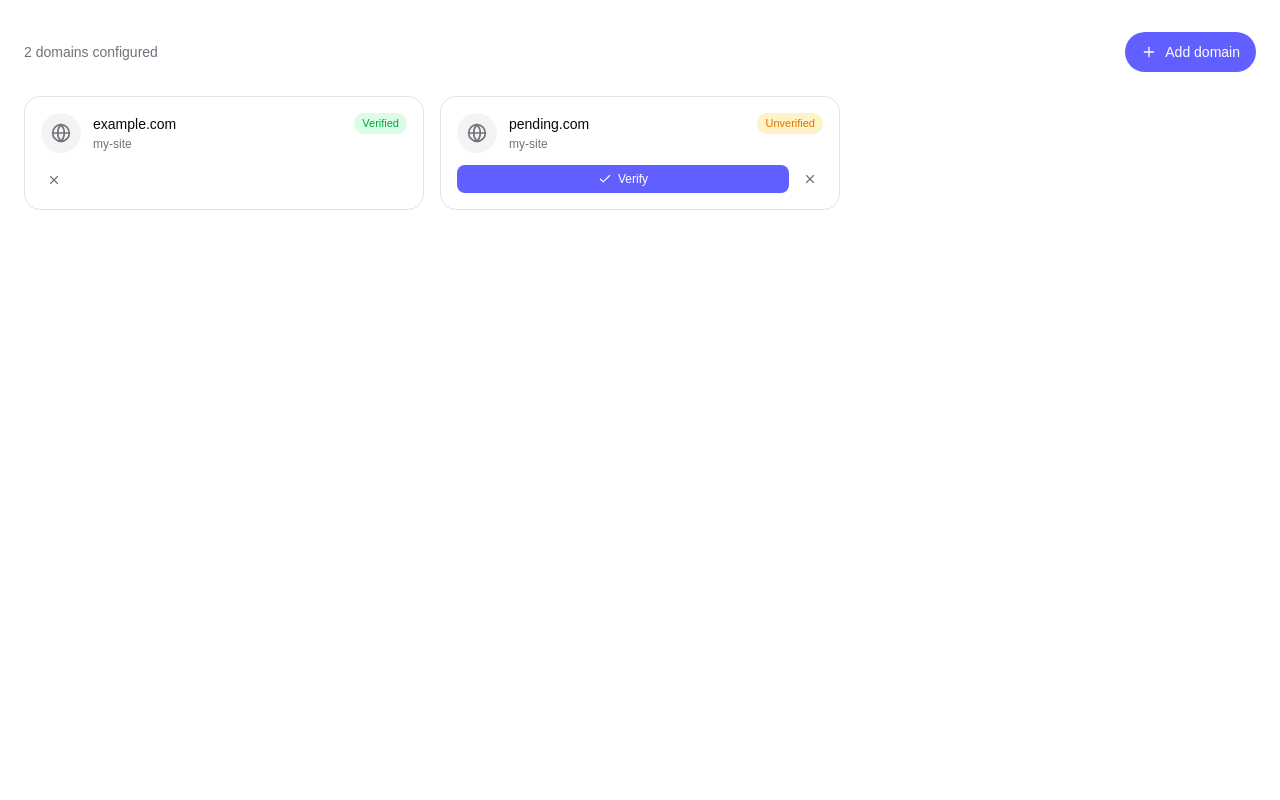
Test: DomainsSection › rejects an invalid domain format
Click the button "Add domain" at [1191, 52], box top-left (1125, 32), bottom-right (1256, 72)
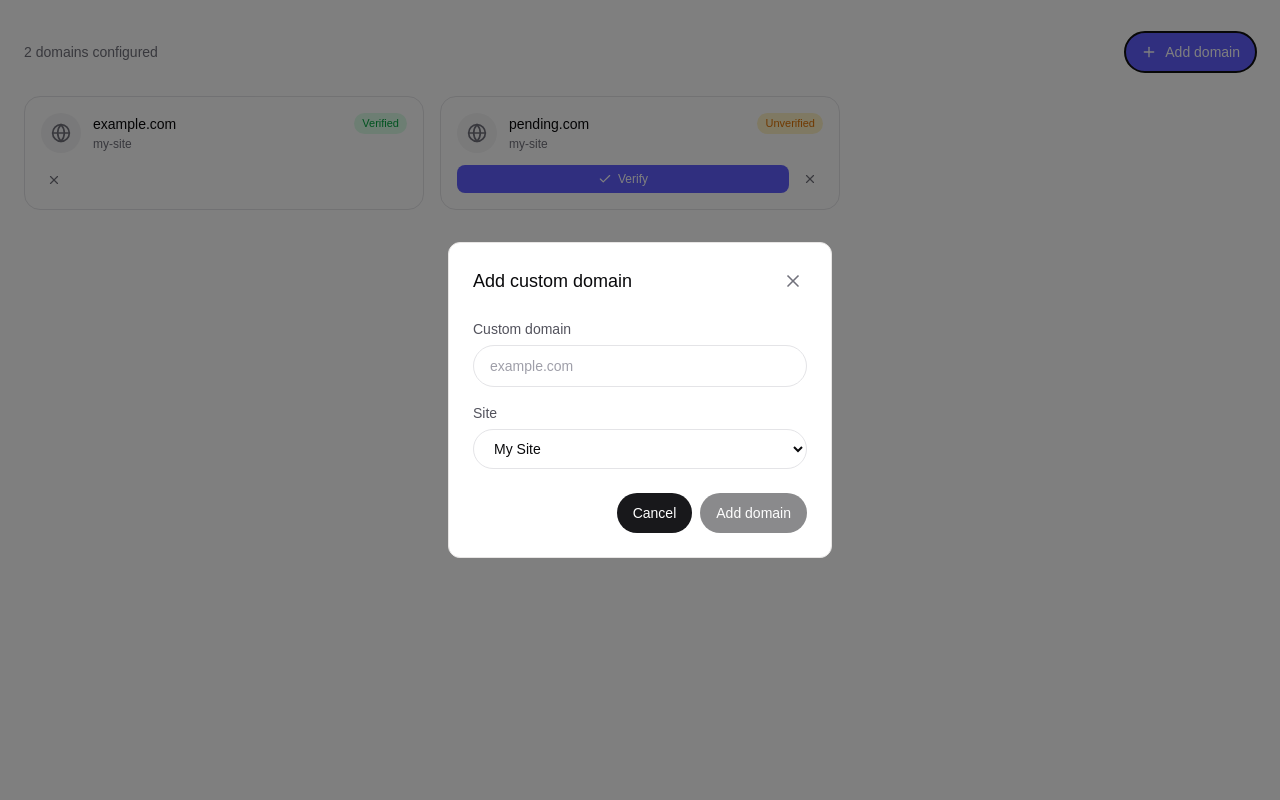
Type "not a domain" into the field labelled "Custom domain" at [640, 366], box top-left (473, 345), bottom-right (807, 387)
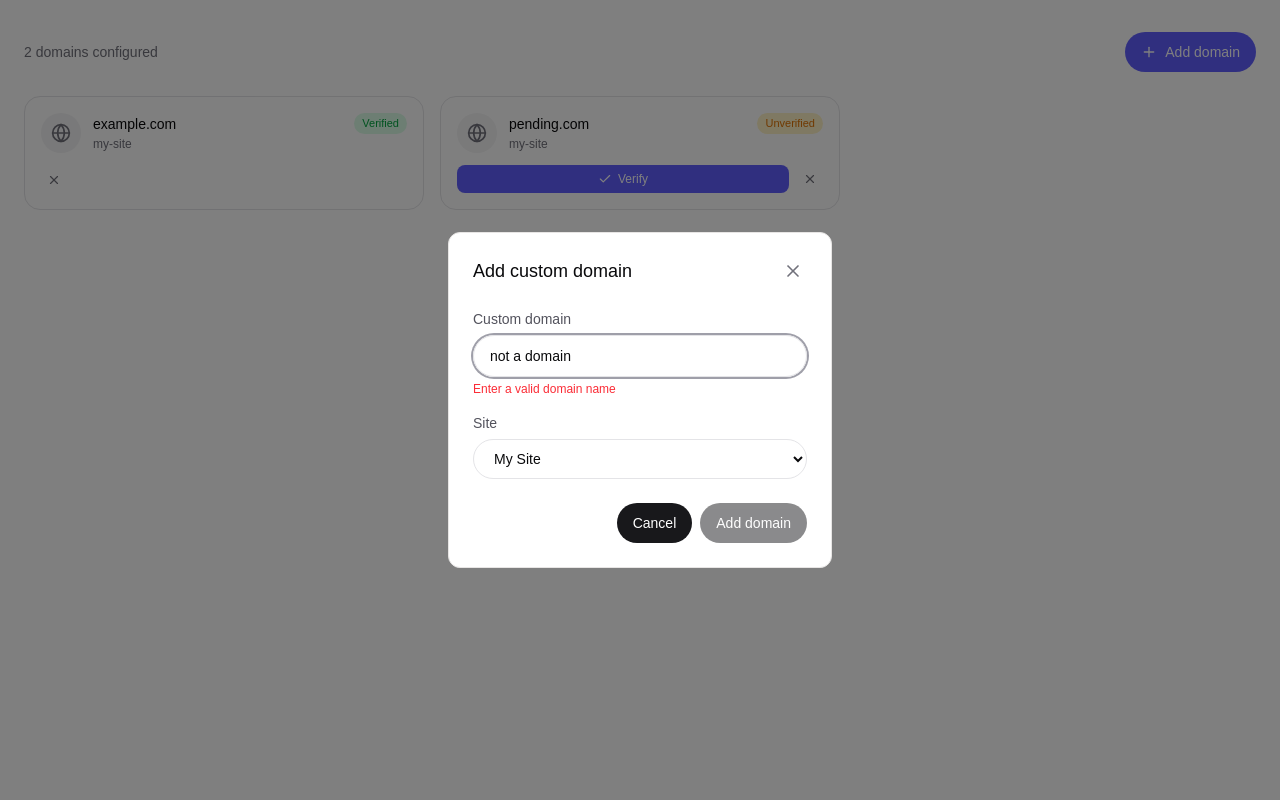
Now the text "Enter a valid domain name" is shown, box top-left (473, 382), bottom-right (616, 396)
